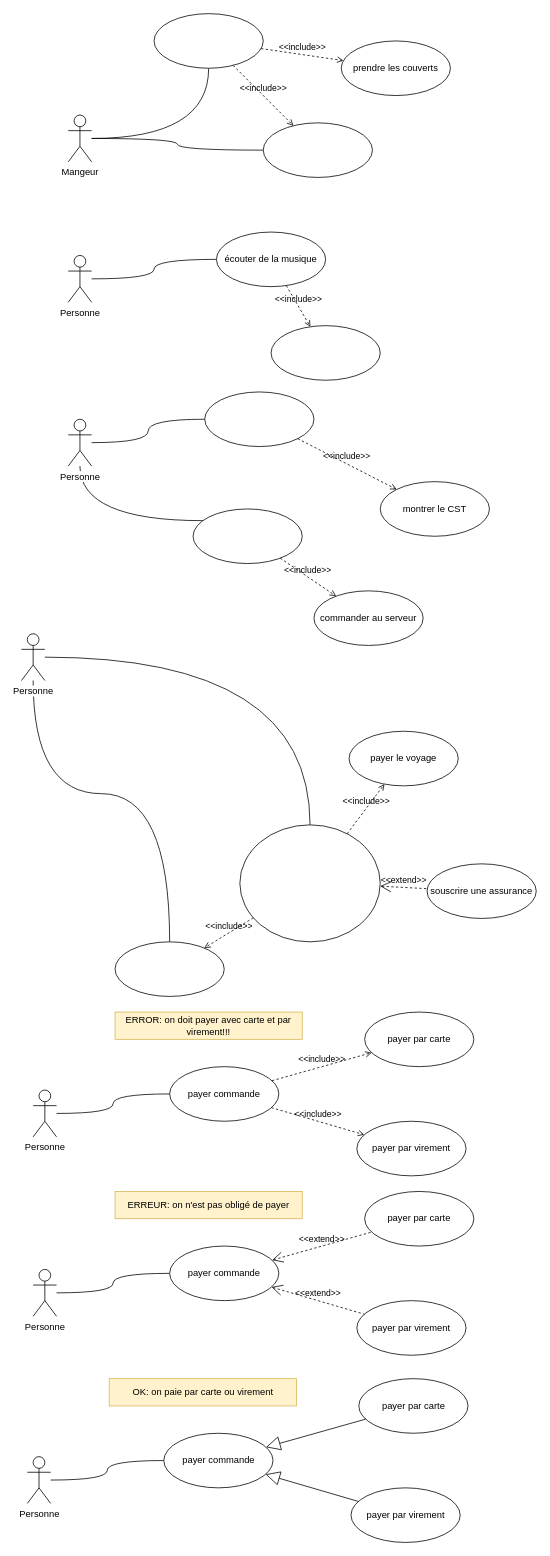
Some shapes in this 550 by 1556 pixel diagram are drawn without their labels. The shapes that lost their labels are listed below. From the top down, each one's centre as x and y in pixels, then its label:
At point 208,40: "manger".
At point 317,149: "cuisiner".
At point 325,352: "lancer deezer".
At point 259,419: "entrer et s'asseoir dans un resto".
At point 247,536: "manger dans le resto".
At point 309,883: "reserver un voyage".
At point 169,968: "rechercher voyage".
